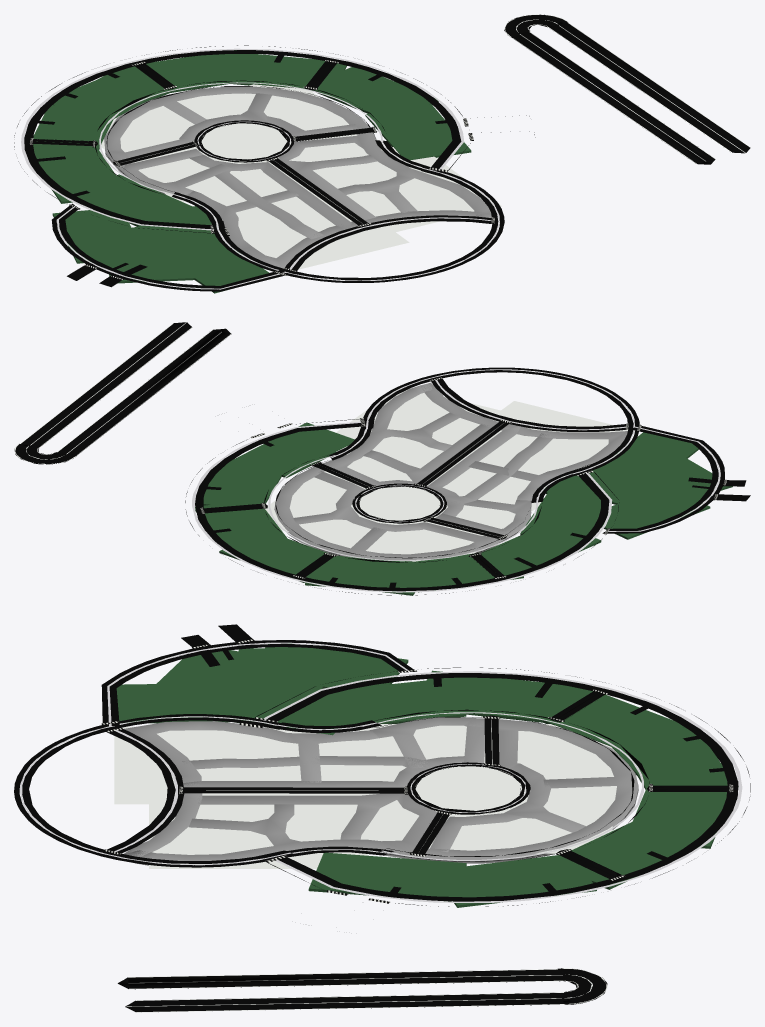
The model's file is lowpollyroad.glb.
The picture shows the model from 3 angles, top to bottom: view 1: azimuth 30°, elevation 25°; view 2: azimuth 150°, elevation 25°; view 3: azimuth 270°, elevation 25°; orthographic projection. The views are drawn at different scales.
Parts seen in each view (by area): view 1: road.002; view 2: road.002; view 3: road.002.
Boxes of the visible parts, x1,y1,x2,y2 form: road.002: [14, 14, 750, 293]; road.002: [14, 322, 750, 595]; road.002: [14, 624, 750, 1012].
Size of the model in its own units: 3070 by 38.75 by 2455.
Materials: 1 (1 with a texture image).
